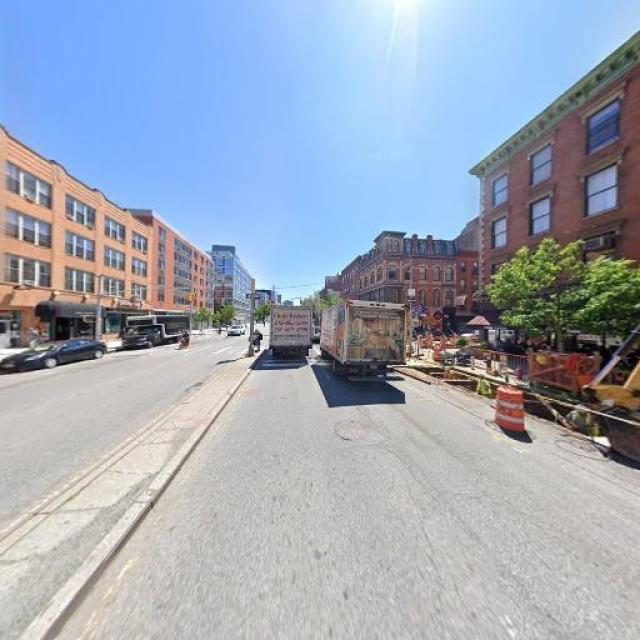Building: (482, 34, 640, 379), (1, 130, 149, 349), (360, 239, 457, 337), (153, 217, 212, 333)
